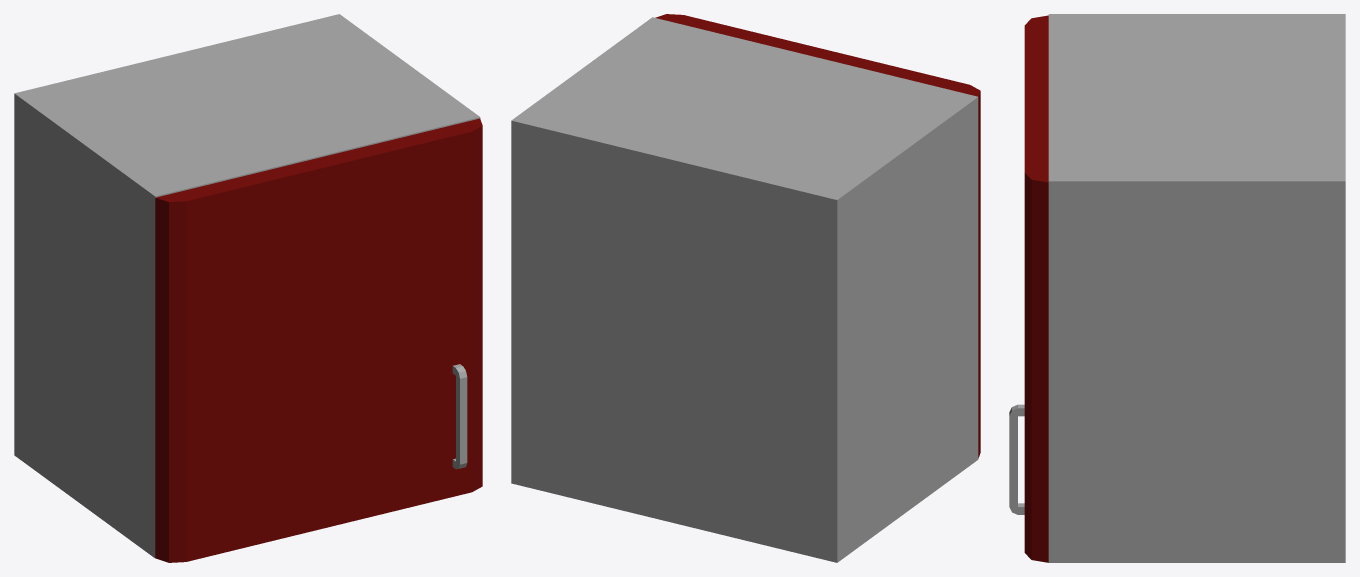
Rendered from wall2.obj.
The picture shows the model from 3 angles, left to right: view 1: azimuth 30°, elevation 25°; view 2: azimuth 150°, elevation 25°; view 3: azimuth 270°, elevation 25°; orthographic projection. The views are drawn at different scales.
Visible parts, largest first — view 1: Cube.121_Cube.149, Cube.120_Cube.148; view 2: Cube.120_Cube.148, Cube.121_Cube.149; view 3: Cube.120_Cube.148, Cube.121_Cube.149.
Part boxes in pixels (left/top/right/bottom): Cube.121_Cube.149: left=155, top=118, right=482, bottom=562; Cube.120_Cube.148: left=14, top=14, right=480, bottom=557; Cube.120_Cube.148: left=511, top=17, right=978, bottom=562; Cube.121_Cube.149: left=655, top=14, right=980, bottom=458; Cube.120_Cube.148: left=1048, top=14, right=1345, bottom=562; Cube.121_Cube.149: left=1009, top=15, right=1048, bottom=562.
Size of the model in its own units: 0.1152 by 0.1225 by 0.0979.
